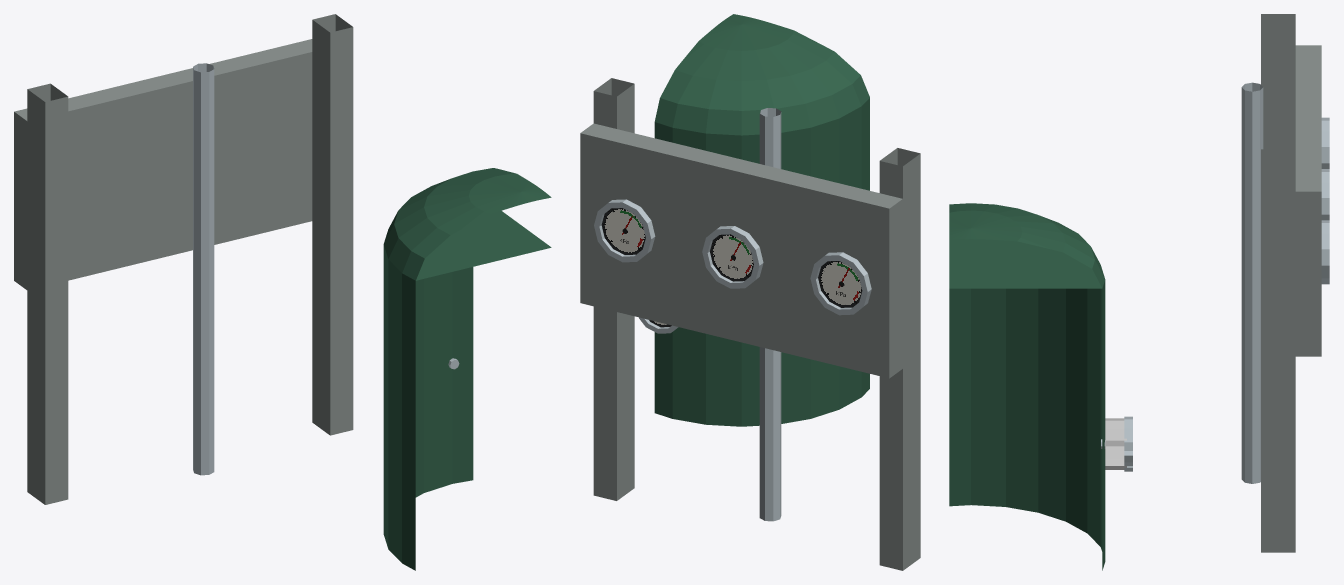
File: cell_28.obj
The picture shows the model from 3 angles, left to right: view 1: azimuth 30°, elevation 25°; view 2: azimuth 150°, elevation 25°; view 3: azimuth 270°, elevation 25°; orthographic projection. The views are drawn at different scales.
Size of the model in its own units: 0.9 by 1 by 0.878.
